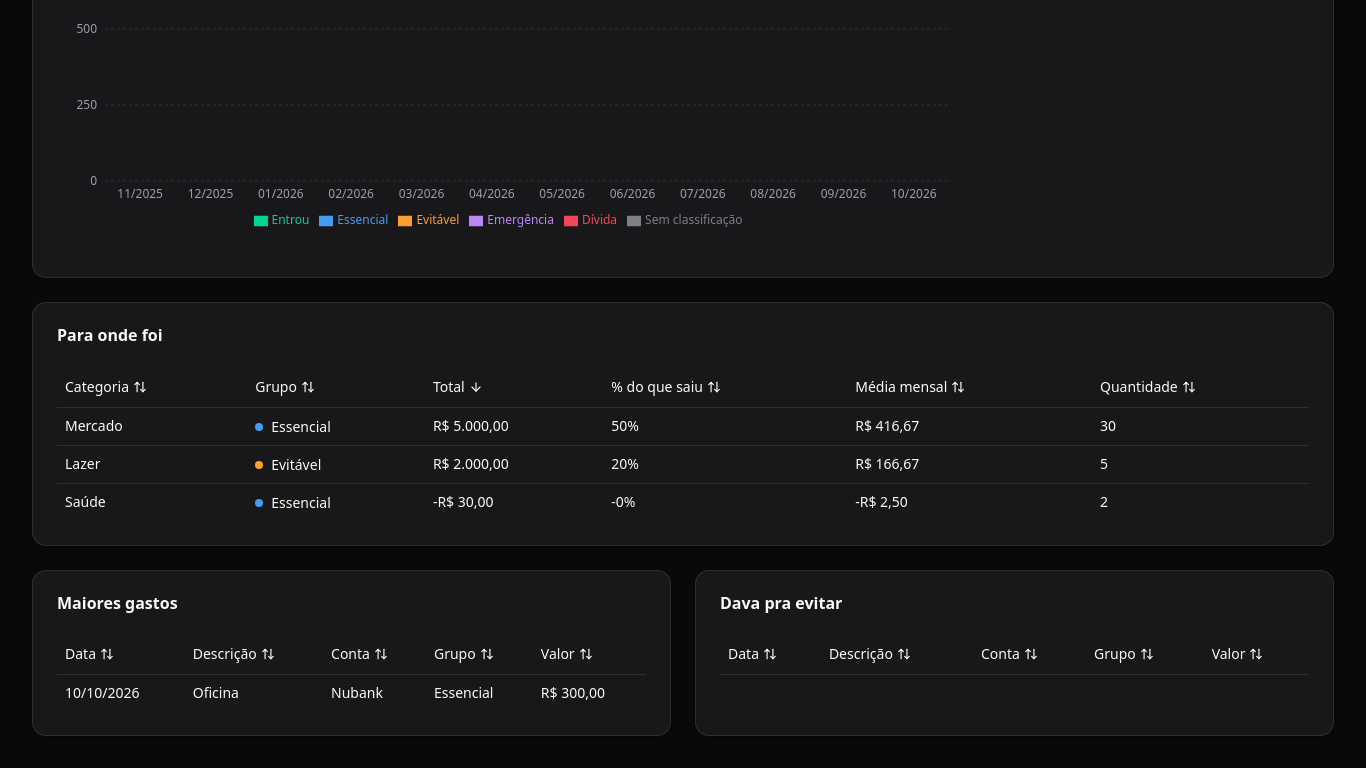
Test: AnalysisPage › clicar em maiores gastos abre a transação e salva descrição e categoria
The image size is (1366, 768).
(page scrolled)
Click the button "Oficina" at (216, 693), box top-left (193, 683), bottom-right (239, 703)
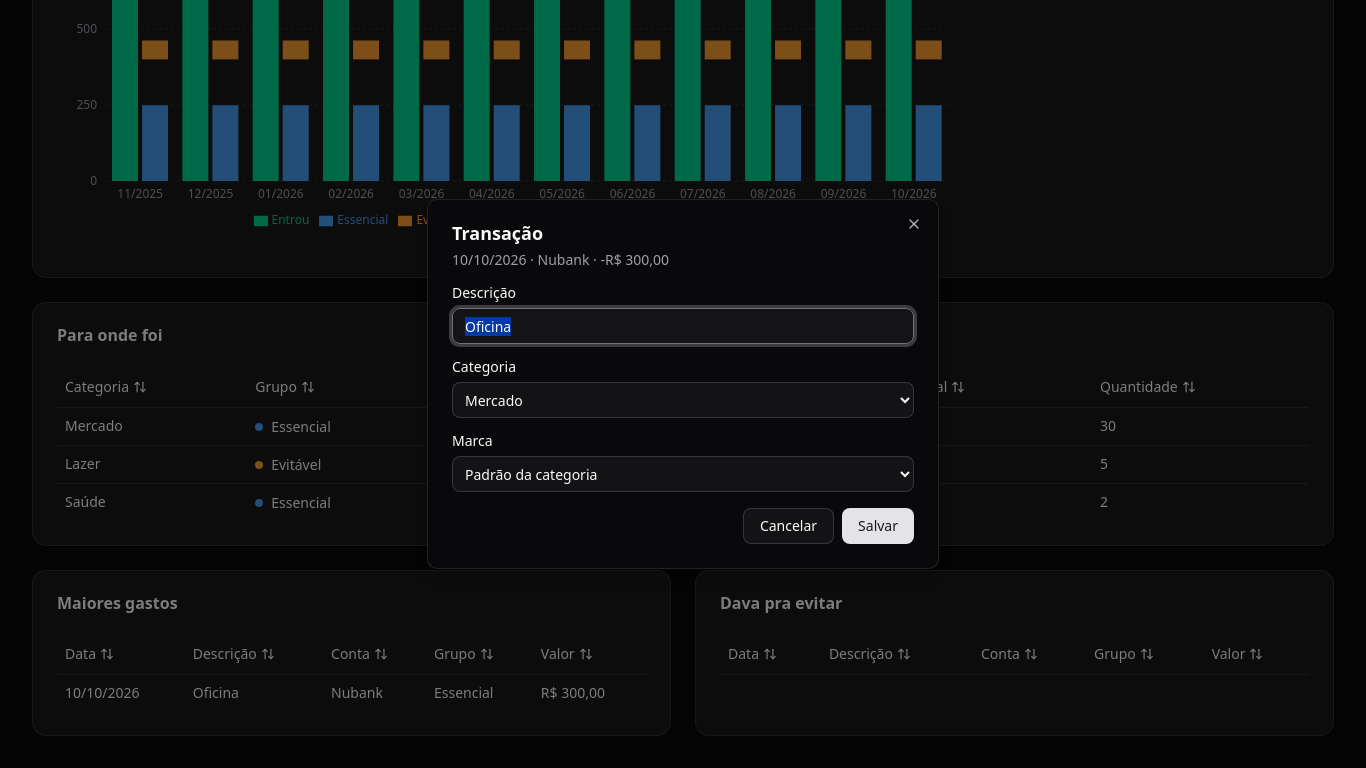
Replace the text in the field labelled "Descrição" with "Conserto do carro" at (683, 326), box top-left (452, 308), bottom-right (914, 344)
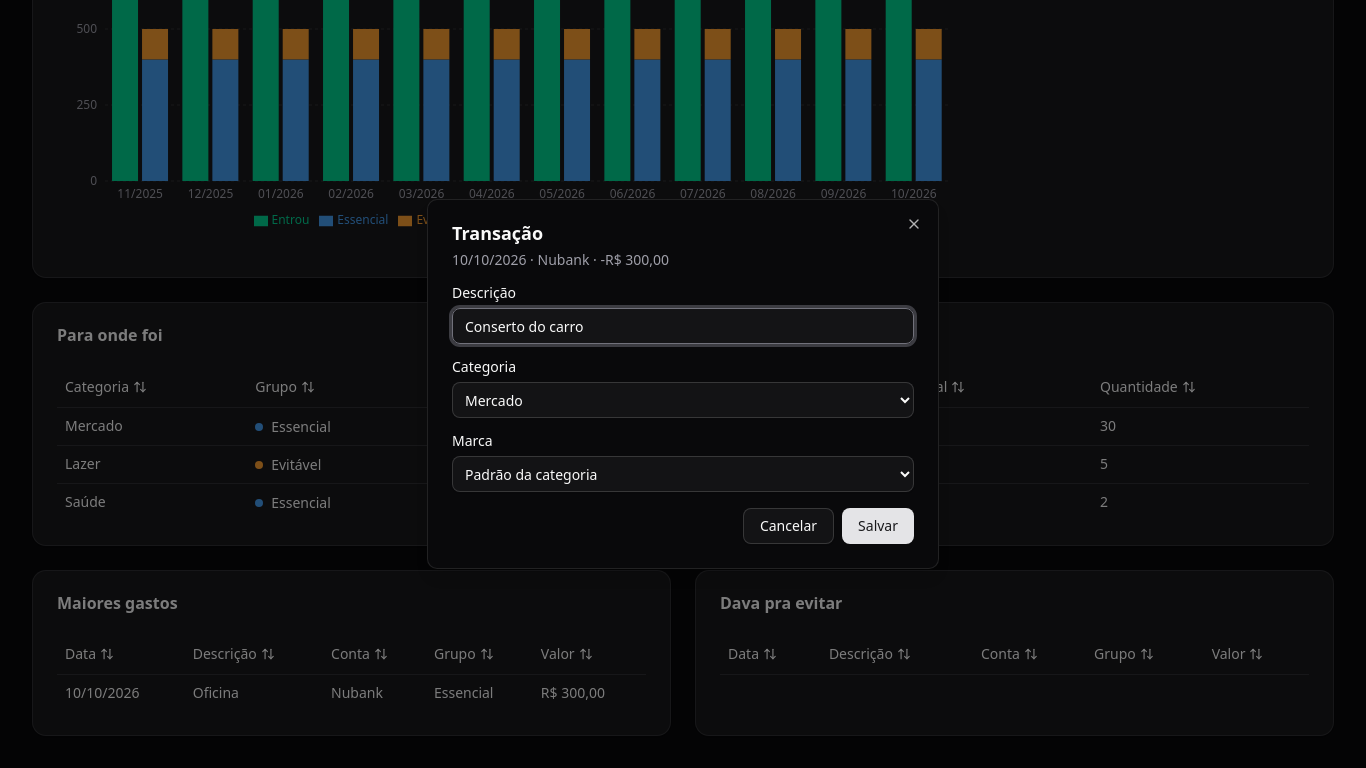
Select "Lazer" in the dropdown labelled "Categoria" at (683, 400), box top-left (452, 382), bottom-right (914, 418)
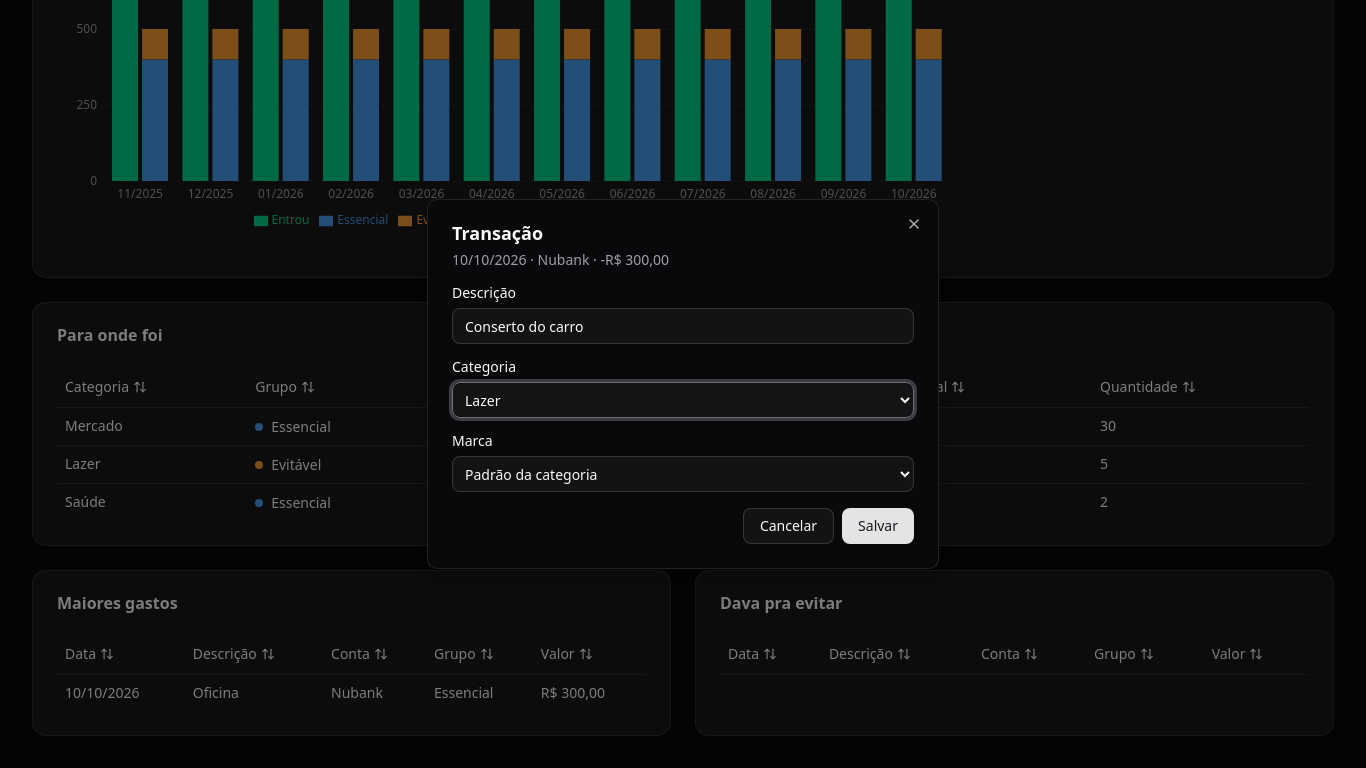
Click the button "Salvar" at (878, 526), box top-left (842, 508), bottom-right (914, 544)
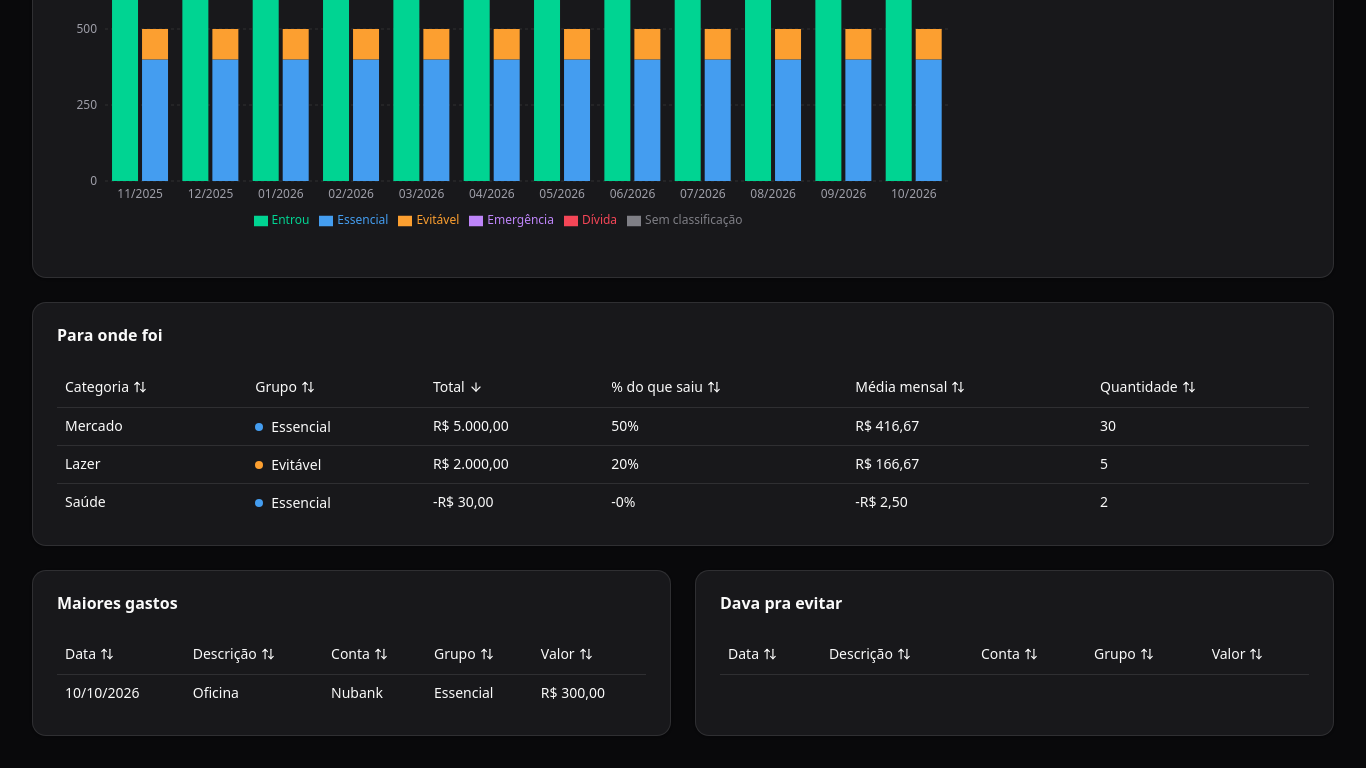
Check: the dialog is gone
